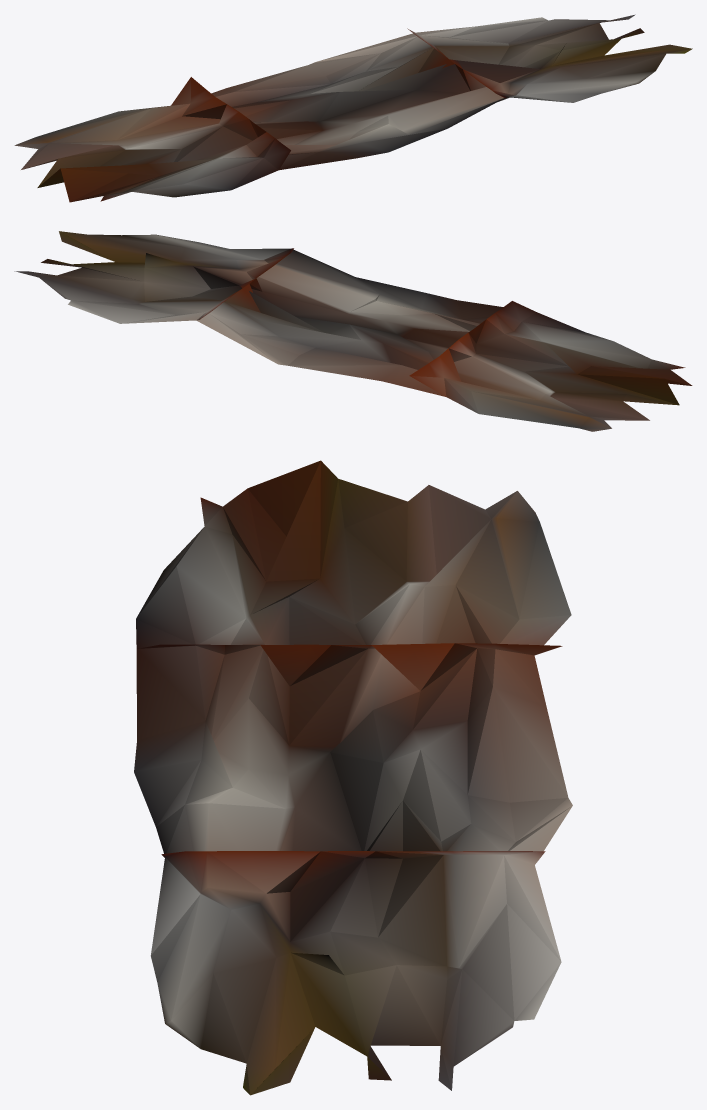
The picture shows the model from 3 angles, top to bottom: view 1: azimuth 30°, elevation 25°; view 2: azimuth 150°, elevation 25°; view 3: azimuth 270°, elevation 25°; orthographic projection. The views are drawn at different scales.
Size of the model in its own units: 8 by 0.2379 by 2.4.
